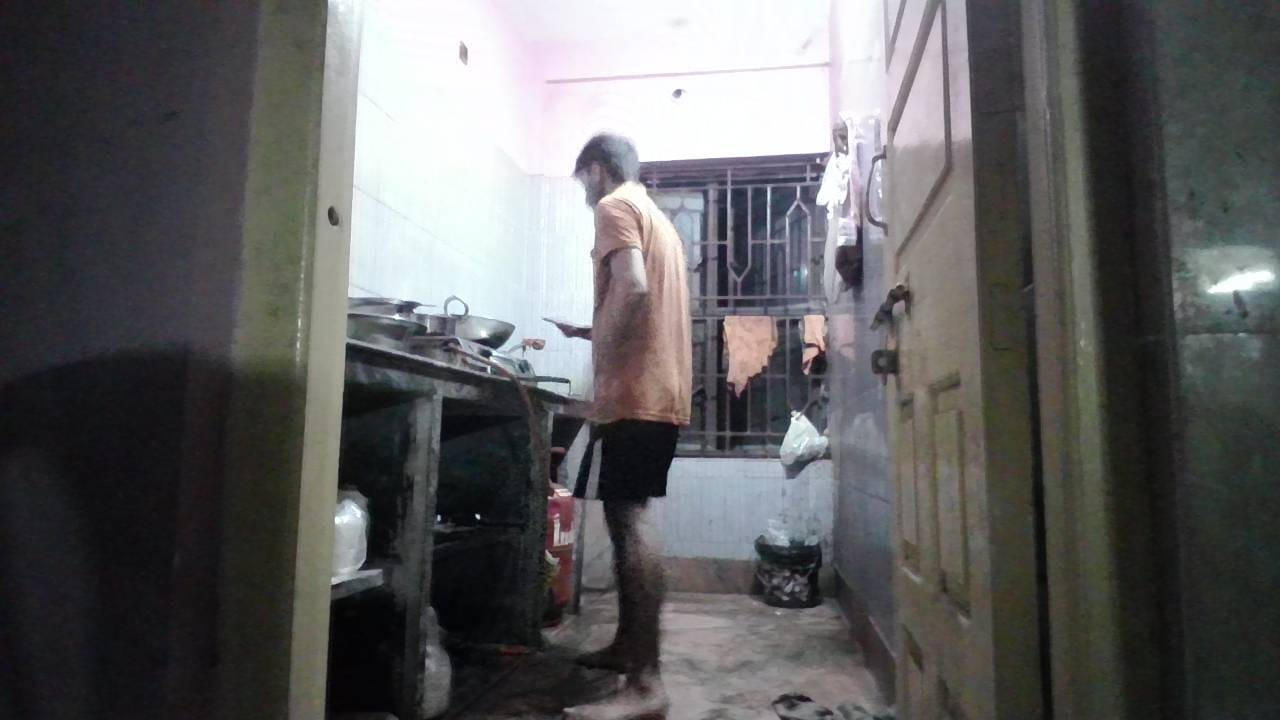red_box: (547, 501, 572, 602)
